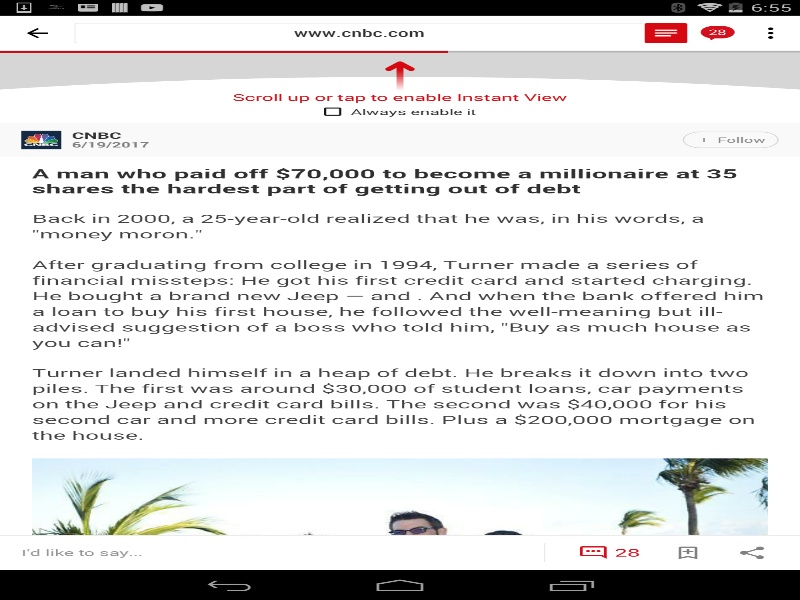Input: (21, 535, 522, 570), (74, 23, 644, 43)
